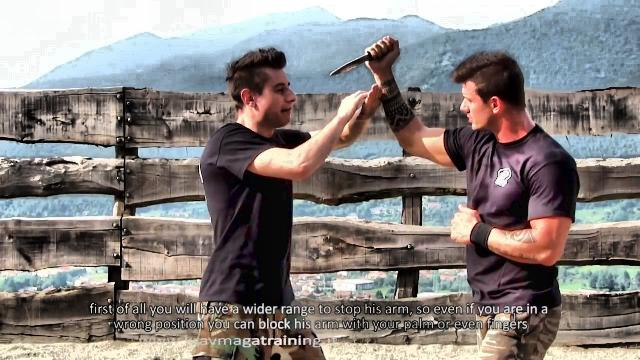knife: (326, 32, 400, 80)
